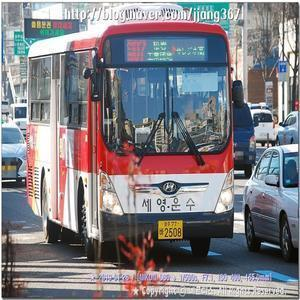07bus: (24, 13, 237, 258)
backdoor: (48, 57, 72, 228)
frontdoor: (85, 50, 107, 247)
